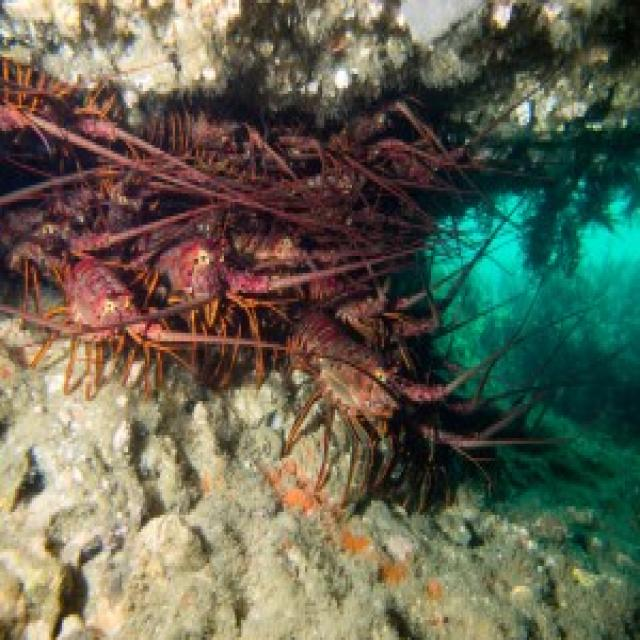lobsters: (23, 153, 217, 411), (133, 203, 324, 363), (302, 312, 474, 482), (200, 116, 330, 266), (272, 236, 422, 362), (0, 80, 139, 185), (344, 123, 456, 218)
